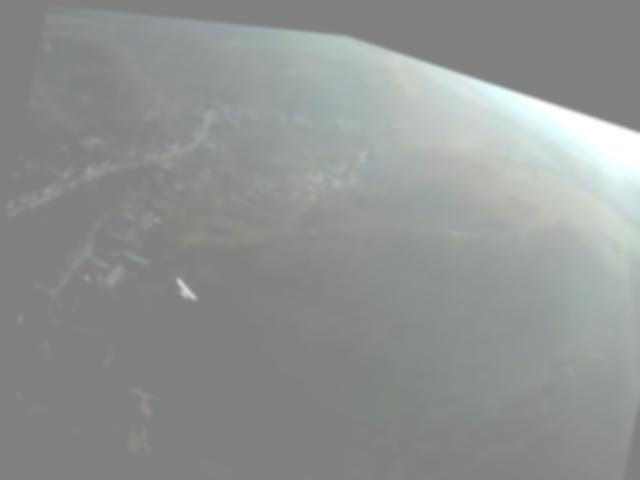iha: (172, 275, 198, 296)
